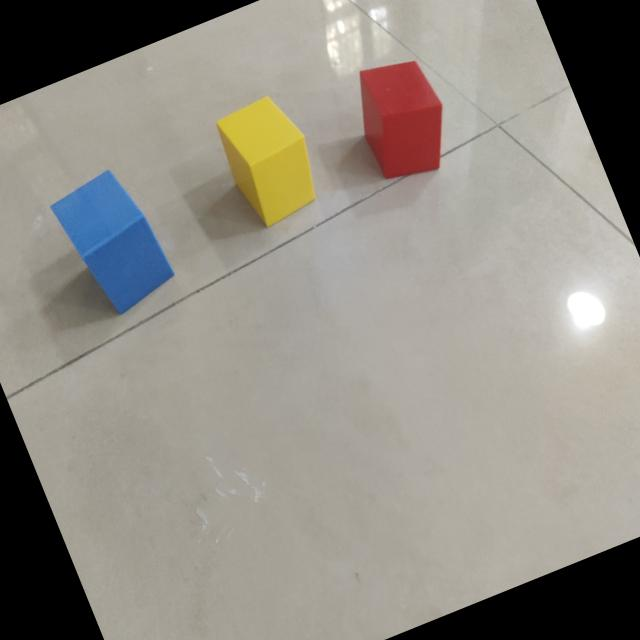blue: (50, 170, 175, 315)
red: (360, 58, 445, 180)
yellow: (217, 96, 317, 228)
